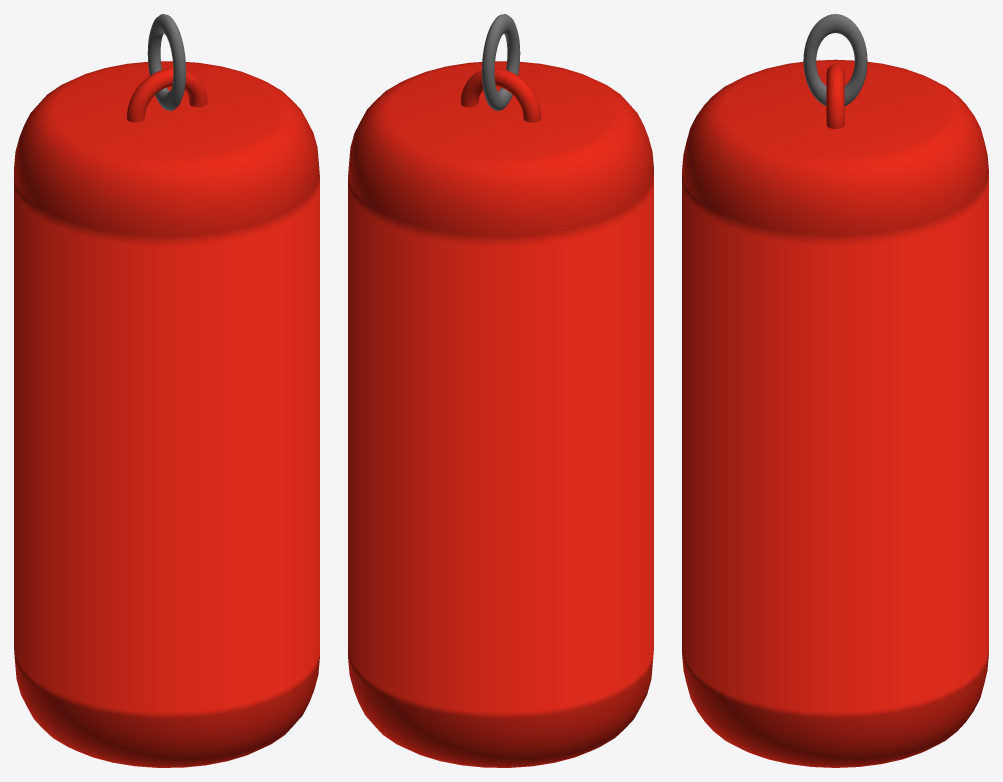
The model's file is ODNA GRUSHA+animation.fbx.
The picture shows the model from 3 angles, left to right: view 1: azimuth 30°, elevation 25°; view 2: azimuth 150°, elevation 25°; view 3: azimuth 270°, elevation 25°; orthographic projection.
Parts seen in each view (by area): view 1: Boxsack; view 2: Boxsack; view 3: Boxsack.
Part boxes in pixels (x1,y1,x2,y2): Boxsack: [14, 14, 319, 767]; Boxsack: [348, 14, 653, 767]; Boxsack: [682, 14, 988, 767].
Size of the model in its own units: 48.68 by 123 by 48.68.
